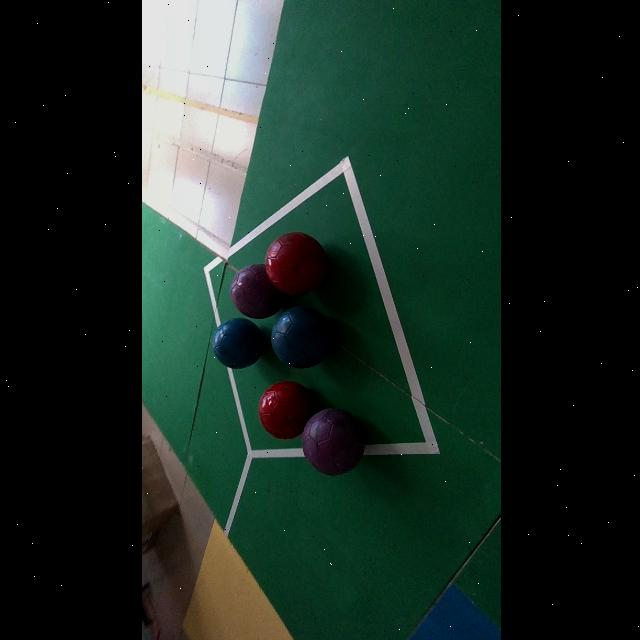B: (270, 306, 333, 368), (211, 318, 263, 369)
P: (300, 409, 364, 476), (229, 264, 285, 319)
R: (263, 232, 327, 296), (256, 381, 313, 439)
